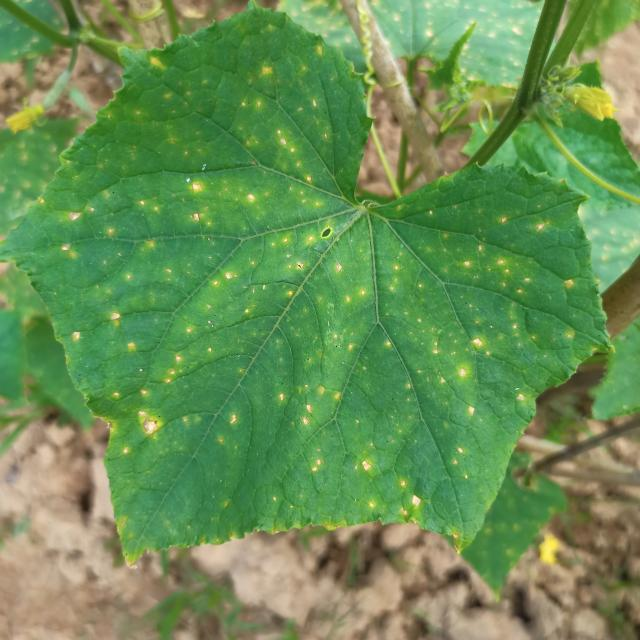disease_cucumber: (52, 41, 568, 548)
